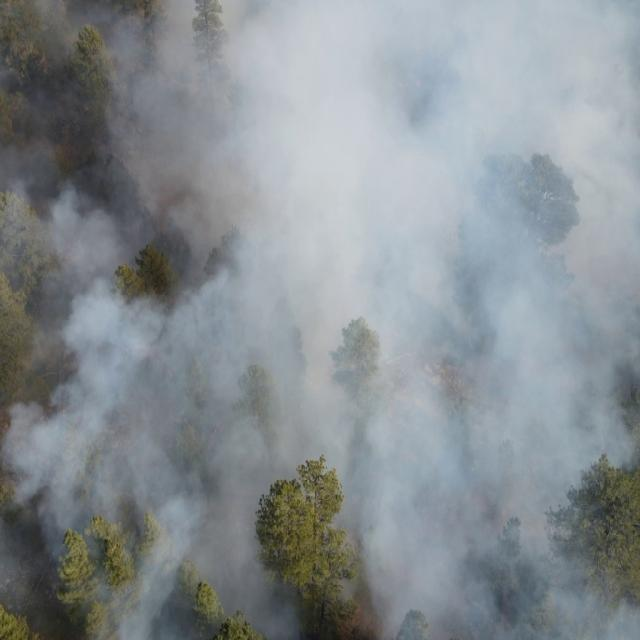smoke: (368, 1, 640, 640), (2, 1, 366, 454), (0, 452, 297, 640), (330, 456, 366, 604)
